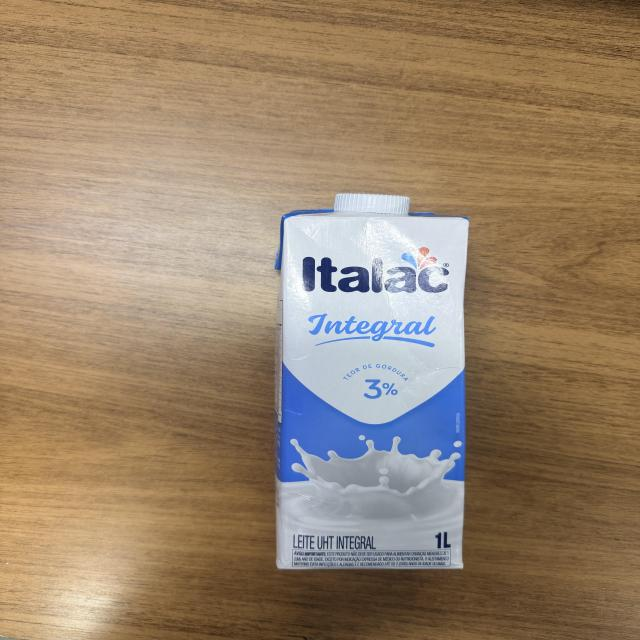Caixa de Leite: (274, 193, 471, 564)
